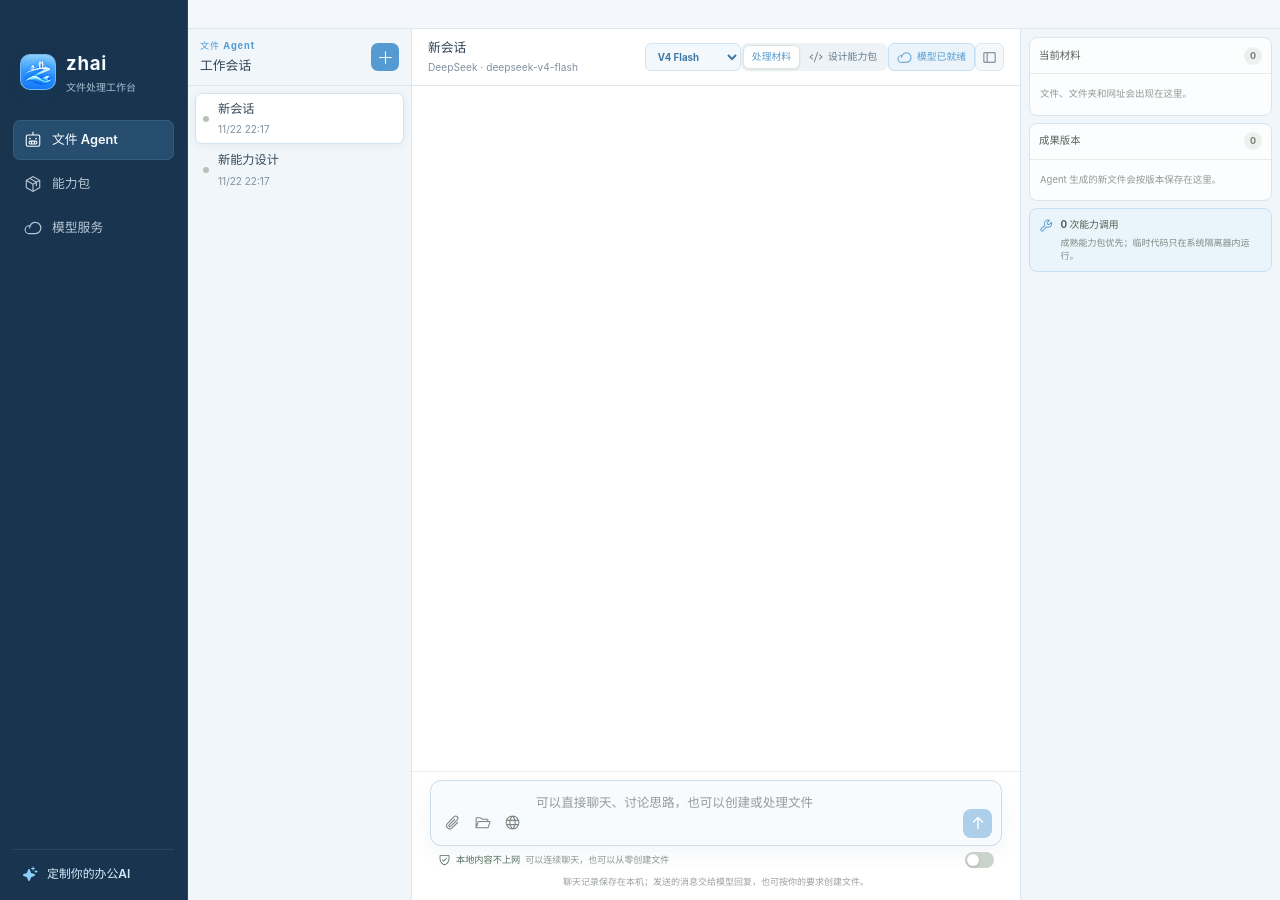
Test case: zhai › 切换到能力包页面不会卸载正在工作的文件 Agent
Step 1. Click the button "设计能力包" → x=843, y=57, box [800,45,886,69]
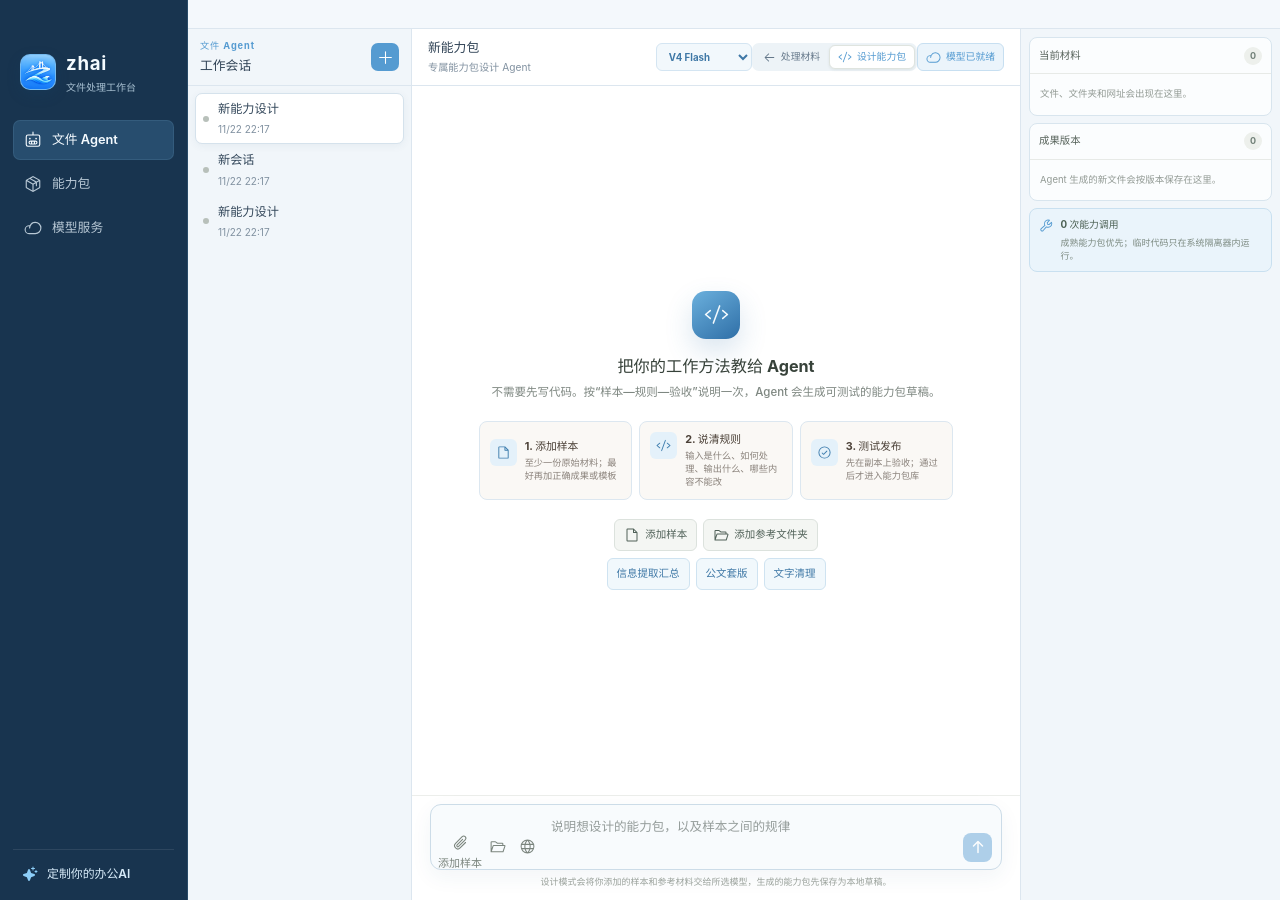
Expected: the button named "新建设计会话" is shown, [371,43,399,71]
Step 2. Click the button "能力包" → x=94, y=184, box [13,164,174,204]
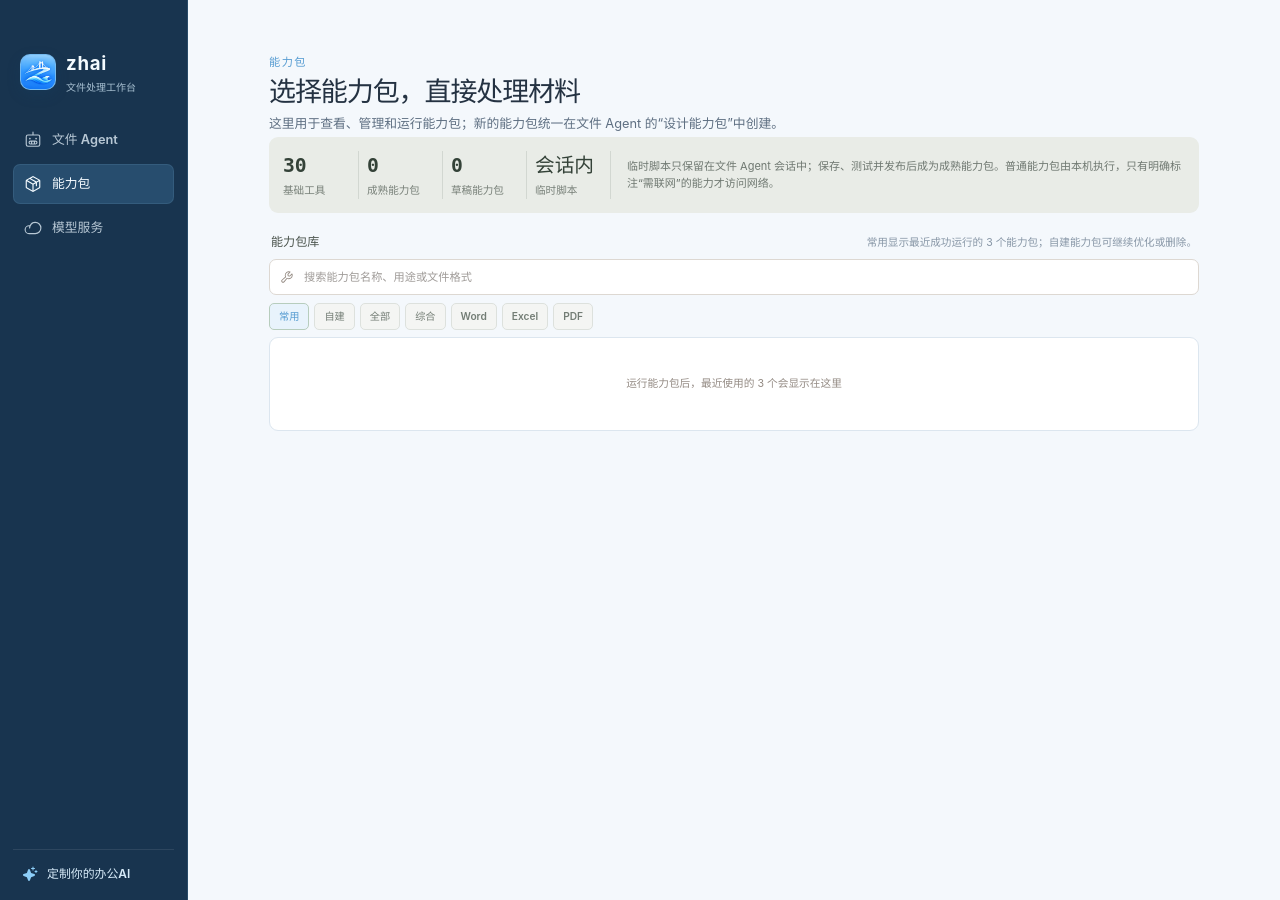
Expected: the heading "选择能力包，直接处理材料" is shown, [269,75,580,108]
Step 3. Click the button "文件 Agent" → x=94, y=140, box [13,120,174,160]
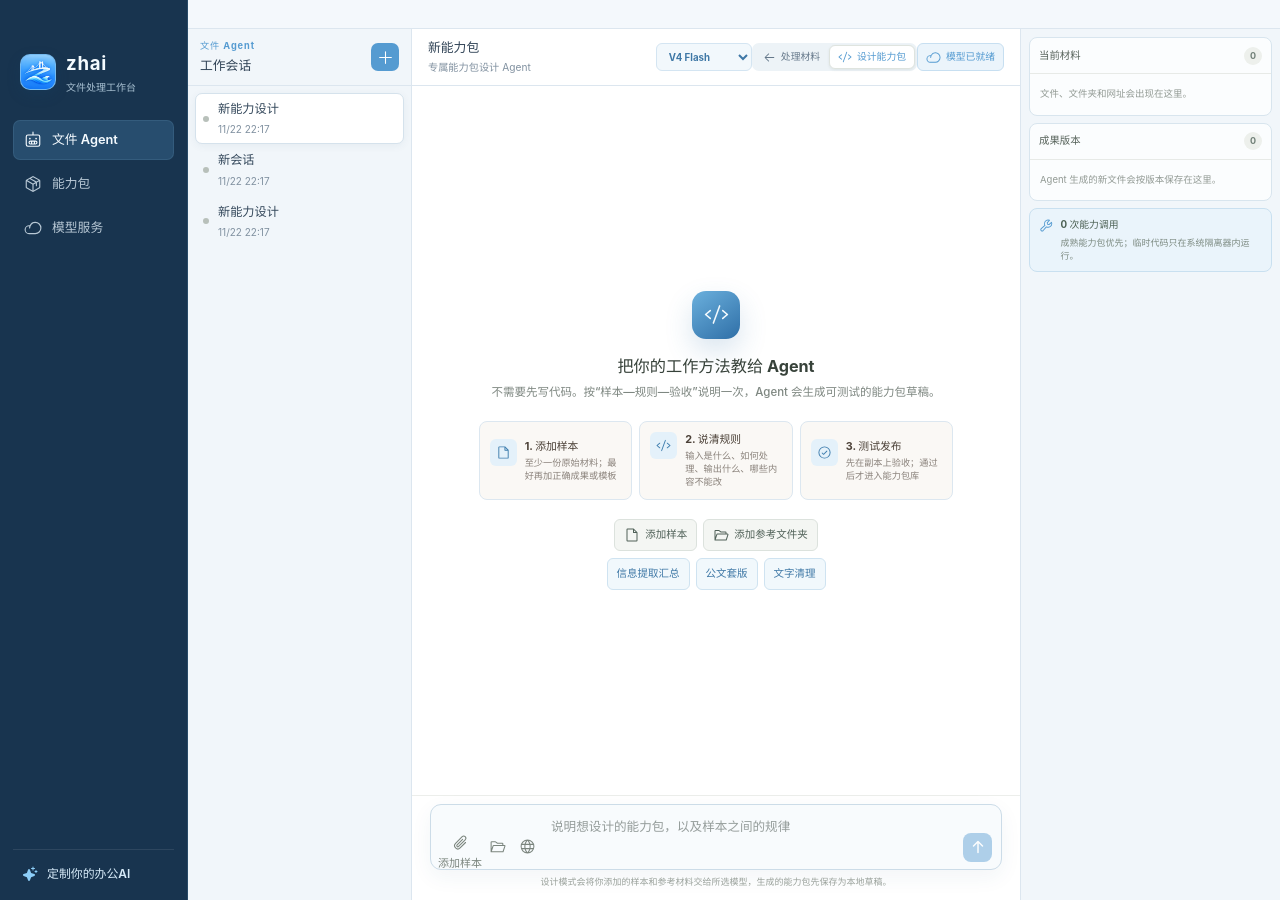
Expected: the button named "新建设计会话" is shown, [371,43,399,71]
